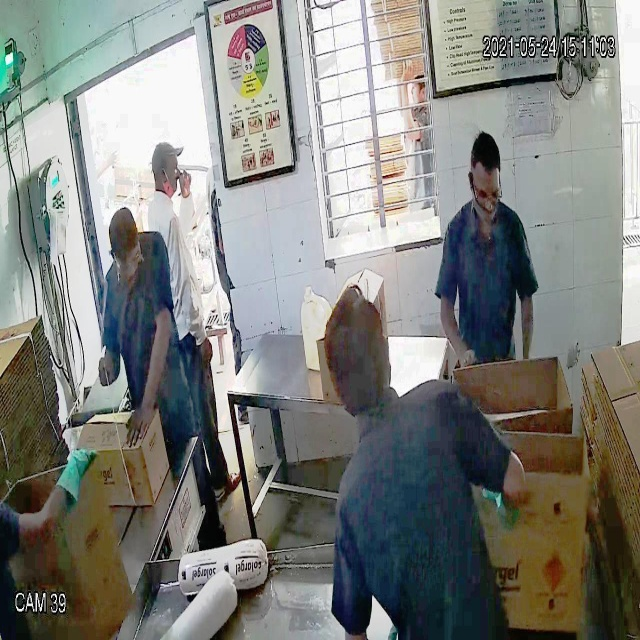Gafas: (467, 171, 507, 212)
